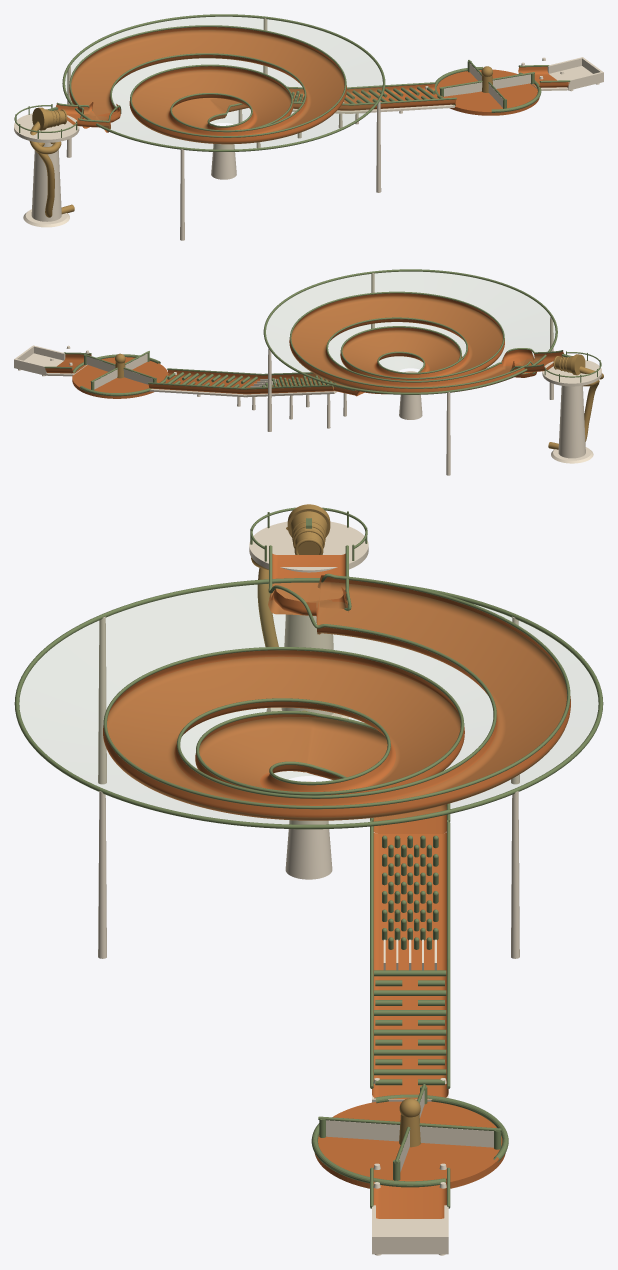
Rendered from course.glb.
3 renders of one model, top to bottom at view 1: azimuth 30°, elevation 25°; view 2: azimuth 150°, elevation 25°; view 3: azimuth 270°, elevation 25°, orthographic. The views are drawn at different scales.
Visible parts, largest first — view 1: track, funnel_glass, rail, frame, brass, mill; view 2: track, funnel_glass, rail, frame, brass, mill; view 3: track, funnel_glass, rail, frame, mill, brass.
Boxes of the visible parts, x1,y1,x2,y2 form: track: [56, 27, 569, 144]; funnel_glass: [65, 17, 382, 148]; rail: [14, 14, 570, 151]; frame: [14, 18, 603, 240]; brass: [29, 66, 492, 217]; mill: [439, 60, 534, 108]; track: [45, 293, 563, 398]; funnel_glass: [266, 272, 554, 391]; rail: [44, 269, 601, 396]; frame: [14, 273, 601, 475]; brass: [115, 353, 603, 449]; mill: [83, 351, 156, 390]; track: [103, 553, 570, 1218]; funnel_glass: [20, 582, 597, 823]; rail: [14, 507, 603, 1208]; frame: [98, 521, 519, 1255]; mill: [318, 1084, 501, 1180]; brass: [251, 504, 420, 1147].
Size of the model in its own units: 119 by 24.52 by 55.24.
